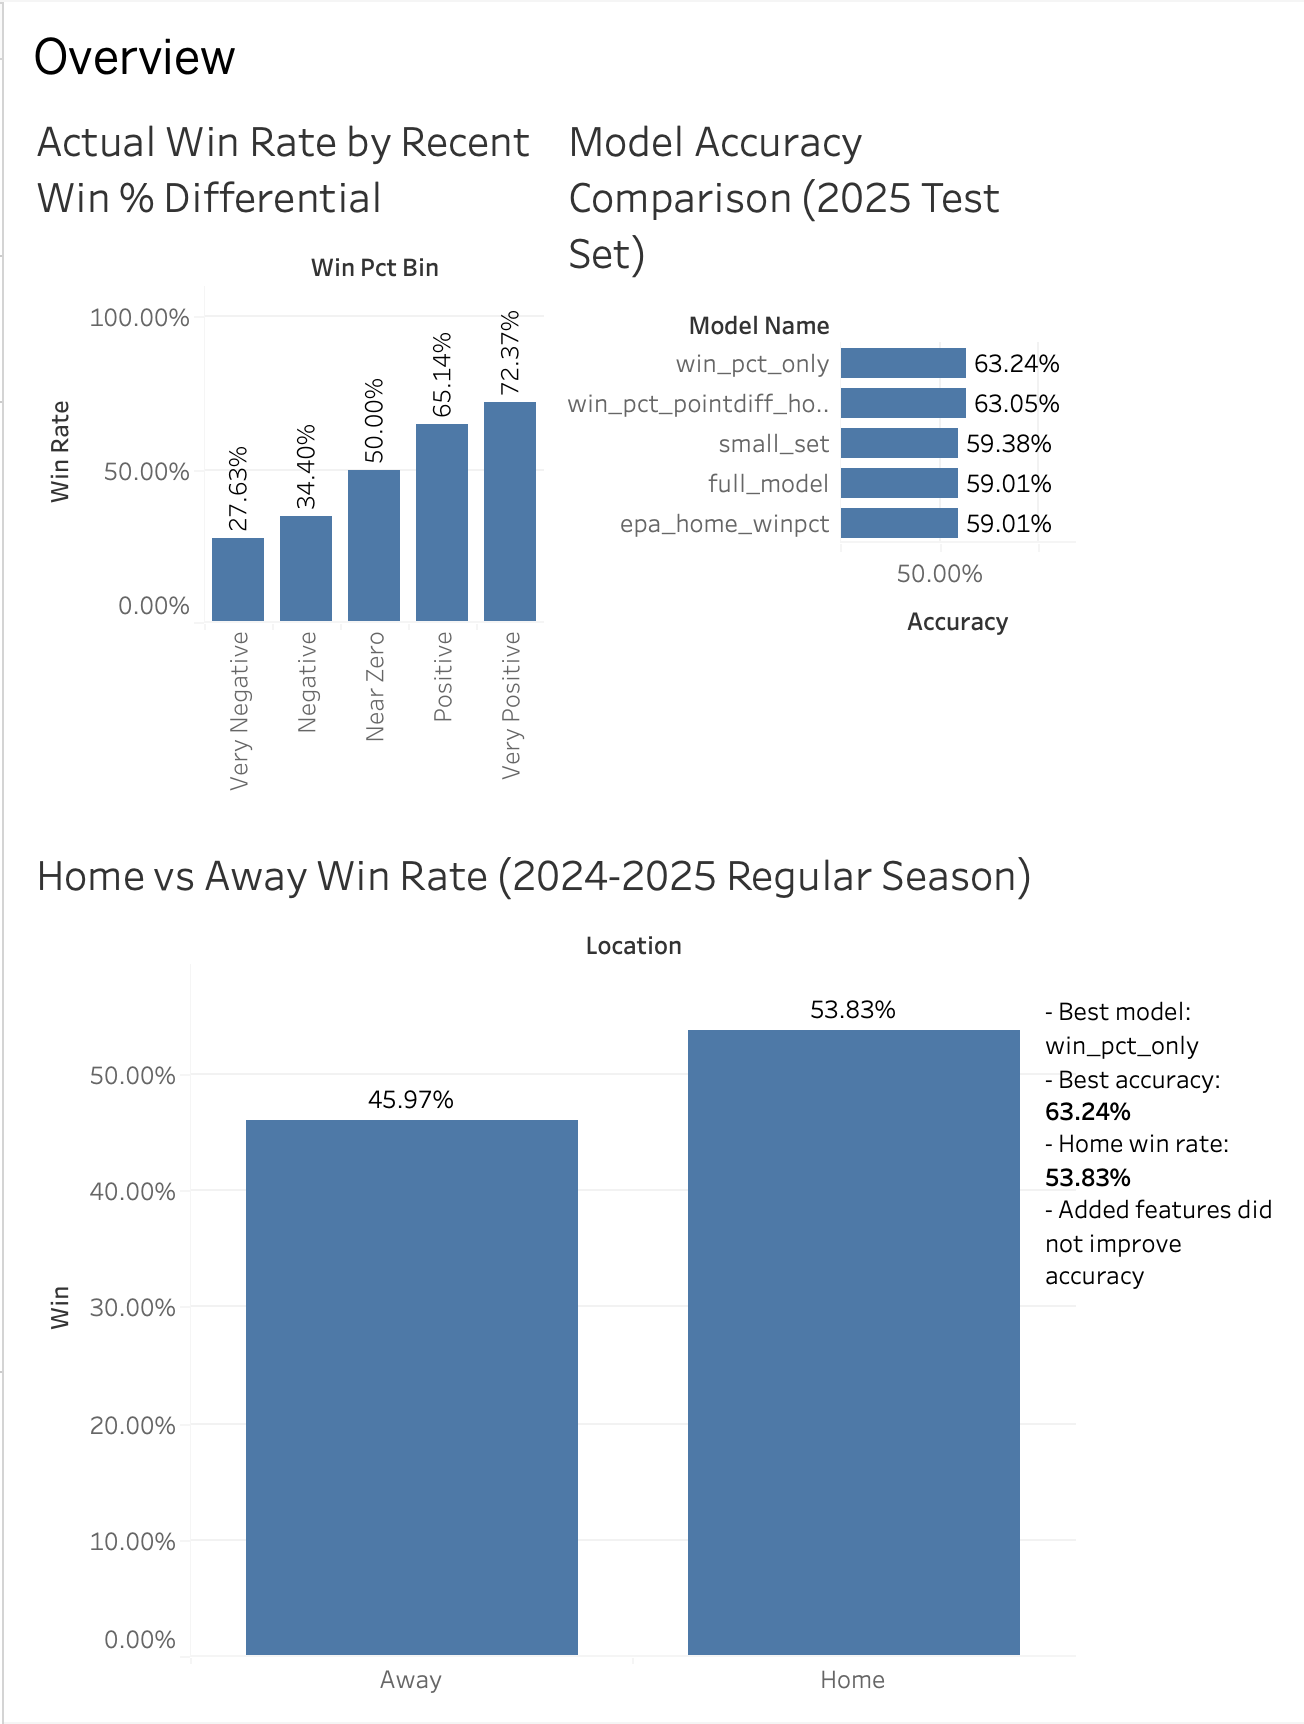

The page's visual inventory and layout, read from the dashboard file:
{"tool":"tableau","page":{"name":"Overview","canvas":[650,860],"ordinal":1},"visuals":[{"type":"title","box":[8,8,532,39]},{"type":"worksheet","title":"Win Rate by Recent Form Bin","mark":"Bar","rows":["win_rate"],"cols":["win_pct_bin"],"box":[8,47,266,367]},{"type":"worksheet","title":"Model Accuracy Comparison","mark":"Bar","rows":["model_name"],"cols":["accuracy"],"box":[274,47,266,367]},{"type":"worksheet","title":"Home vs Away Win Rate ","mark":"Bar","rows":["win"],"cols":["location"],"box":[8,414,532,438]},{"type":"text","box":[518,486,125,164]}]}

Visuals, with their boxes in screenshot pixels (x1, y1, x2, y2), scaled from the page's 650x860 canvas onto the 1304x1724 screenshot:
title: [left=16, top=16, right=1083, bottom=94]
"Win Rate by Recent Form Bin" worksheet (Bar marks): [left=16, top=94, right=550, bottom=830]
"Model Accuracy Comparison" worksheet (Bar marks): [left=550, top=94, right=1083, bottom=830]
"Home vs Away Win Rate " worksheet (Bar marks): [left=16, top=830, right=1083, bottom=1708]
text: [left=1039, top=974, right=1290, bottom=1303]
